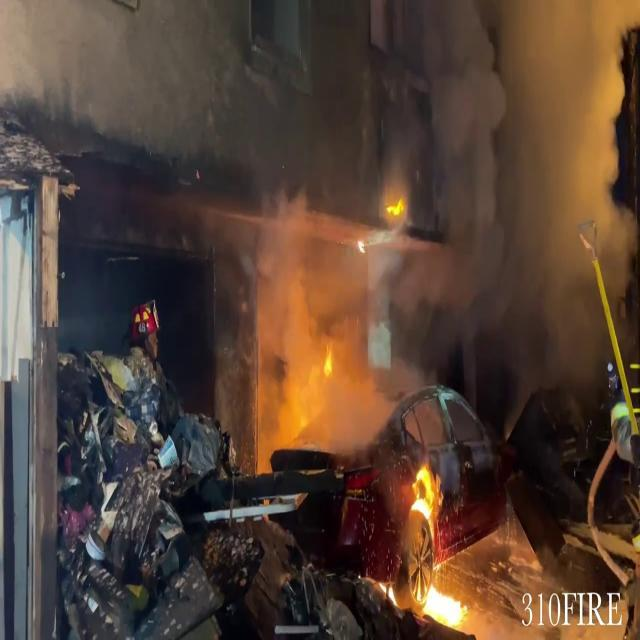Fire: (409, 570, 476, 632)
Smoke: (213, 177, 447, 441)
